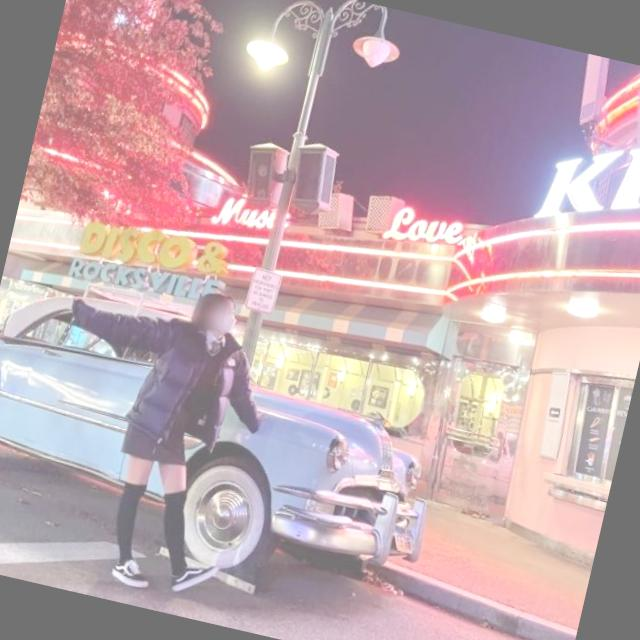padding: (52, 278, 286, 460)
skirt: (117, 413, 199, 473)
